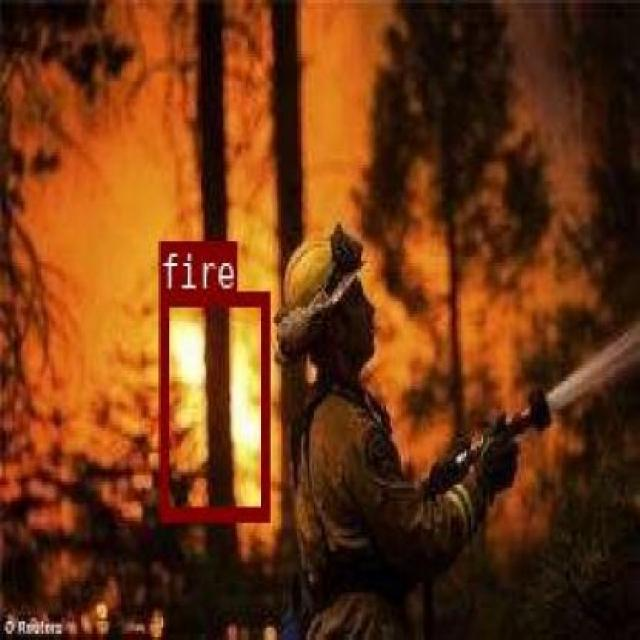Fire: (158, 291, 267, 518)
